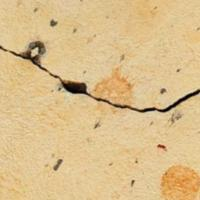crack: (0, 38, 199, 125)
